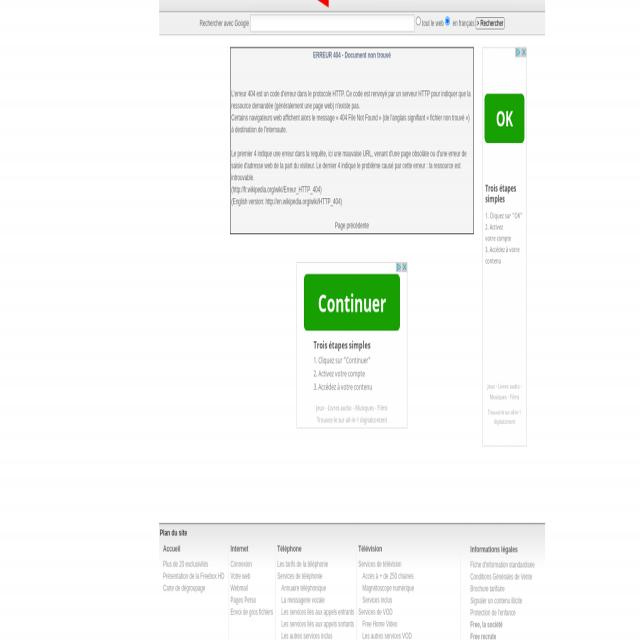button: (304, 272, 400, 332), (484, 94, 526, 145), (476, 17, 504, 30), (402, 262, 408, 273), (396, 263, 402, 273), (515, 48, 520, 57), (522, 48, 526, 56)
field: (250, 15, 415, 32), (445, 16, 451, 26), (416, 16, 421, 26)
